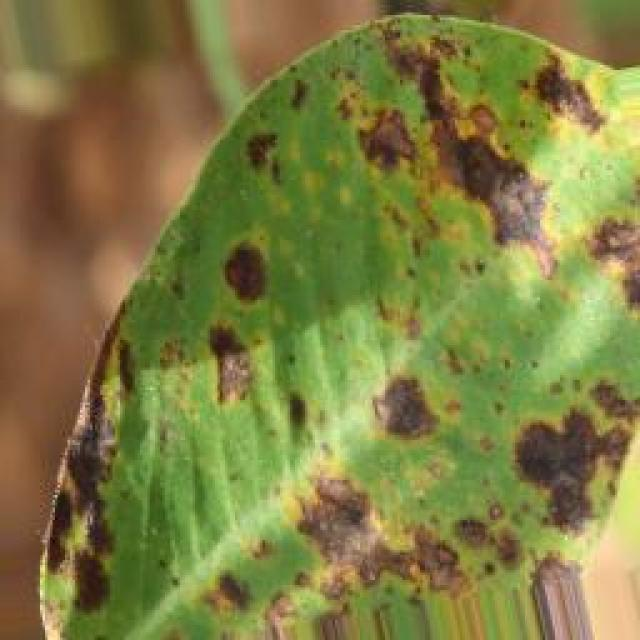Yellowish: (49, 6, 625, 588)
